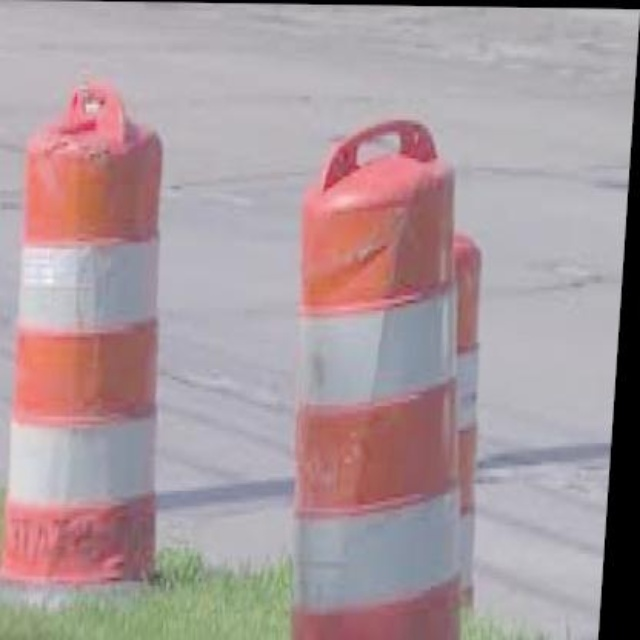obstacle: (278, 76, 500, 640), (8, 92, 181, 600)
